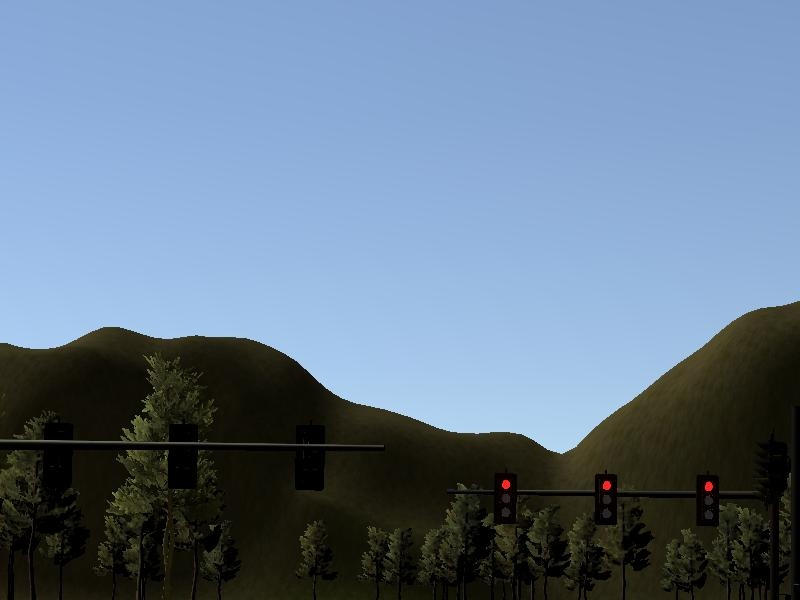RED: (493, 472, 519, 526), (593, 470, 619, 524), (695, 473, 721, 527)
